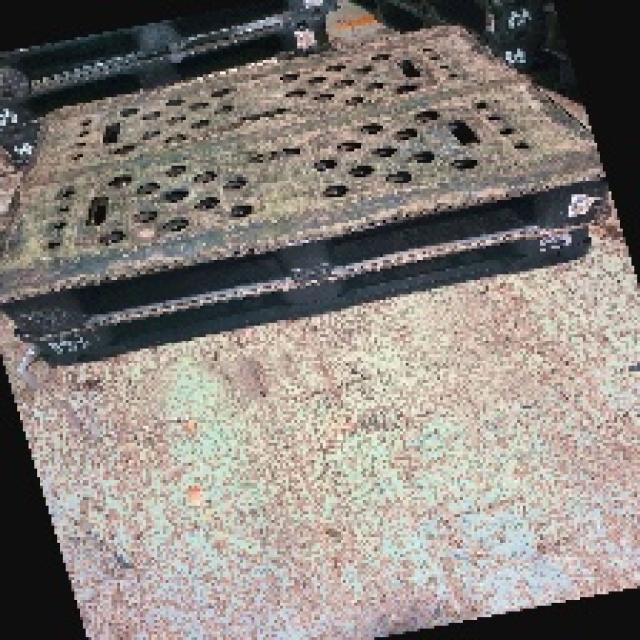igps: (0, 19, 617, 348), (11, 208, 597, 373)
